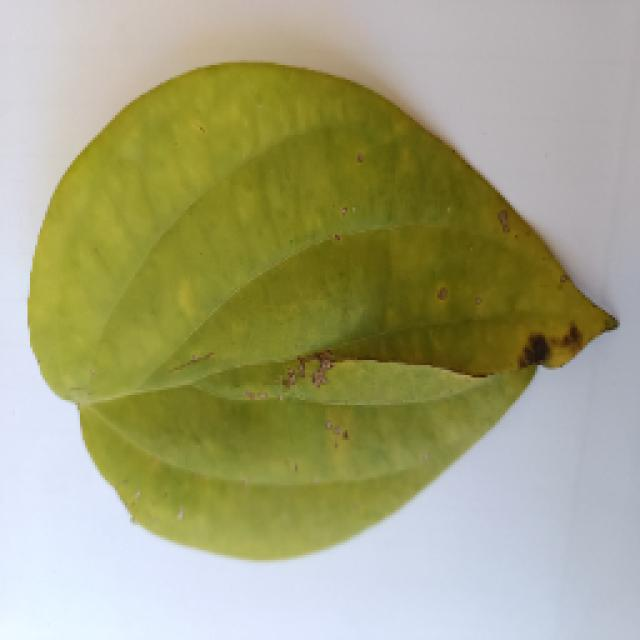slow-decline: (30, 60, 620, 568)
